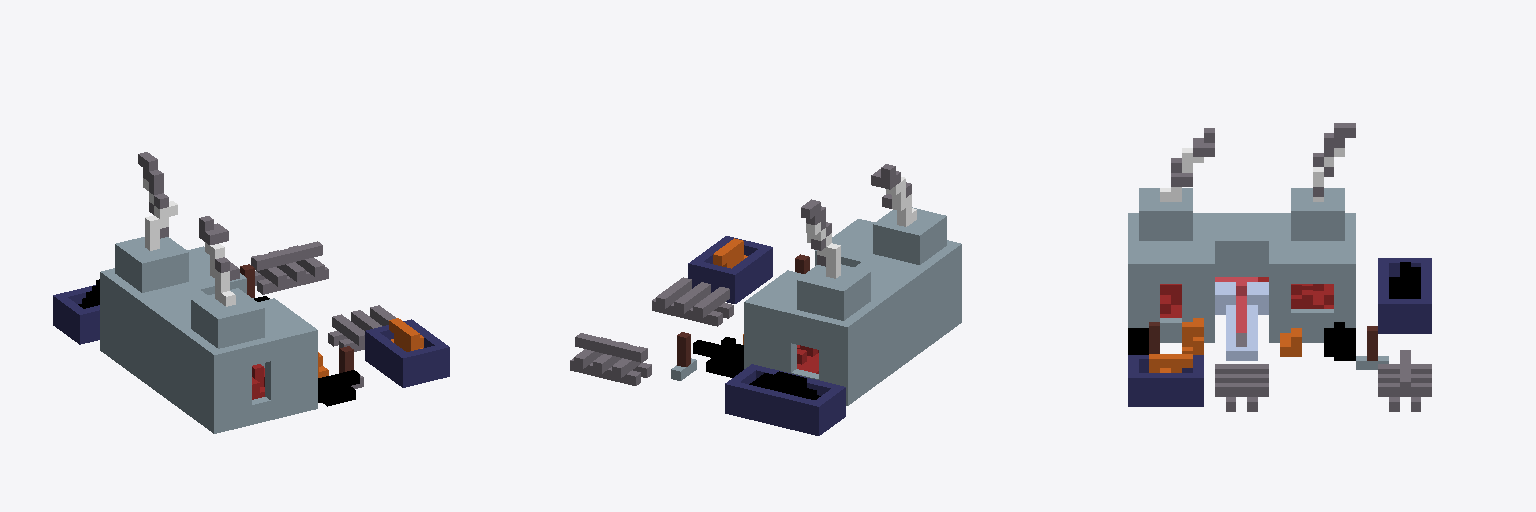
3 renders of one model, left to right at view 1: azimuth 30°, elevation 25°; view 2: azimuth 150°, elevation 25°; view 3: azimuth 270°, elevation 25°, orthographic.
Parts seen in each view (by area): view 1: object 1; view 2: object 1; view 3: object 1.
Boxes of the visible parts, x1,y1,x2,y2 form: object 1: [53, 152, 449, 433]; object 1: [570, 164, 961, 435]; object 1: [1128, 123, 1431, 411].
Size of the model in its own units: 2.7 by 1.9 by 2.8.
Materials: 1 (1 with a texture image).